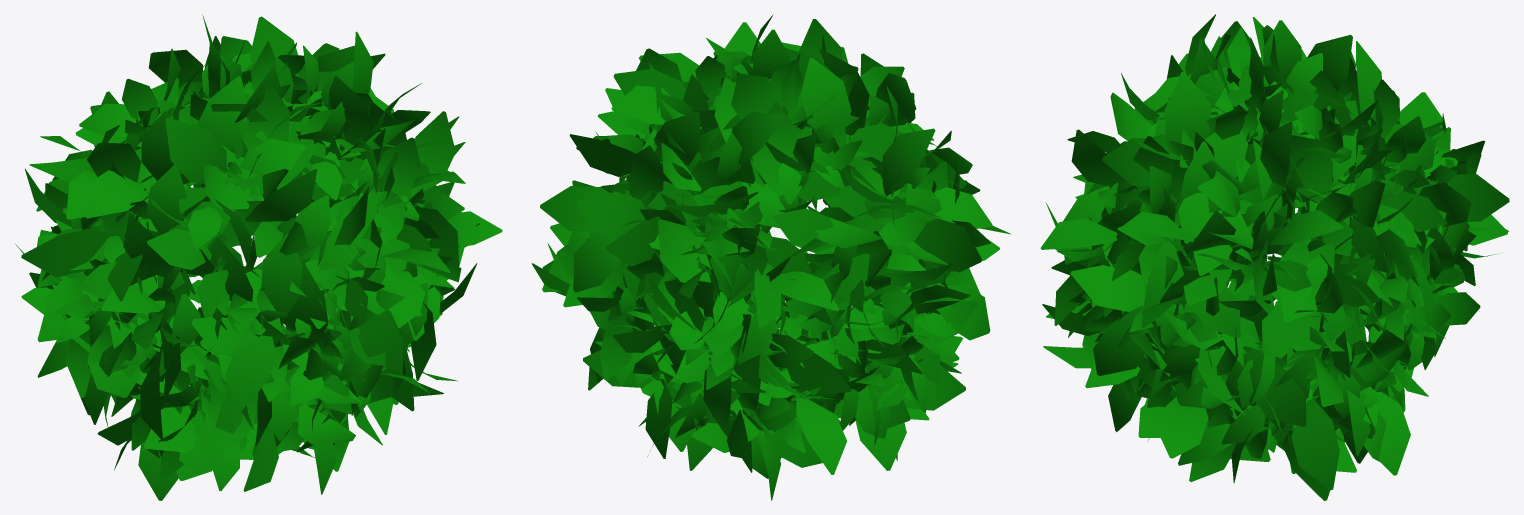
Rendered from bush.glb.
The picture shows the model from 3 angles, left to right: view 1: azimuth 30°, elevation 25°; view 2: azimuth 150°, elevation 25°; view 3: azimuth 270°, elevation 25°; orthographic projection. The views are drawn at different scales.
Parts seen in each view (by area): view 1: Plane.125.1; view 2: Plane.125.1; view 3: Plane.125.1.
Part boxes in pixels (left/top/right/bottom): Plane.125.1: left=15, top=15, right=502, bottom=500; Plane.125.1: left=531, top=14, right=1010, bottom=500; Plane.125.1: left=1040, top=14, right=1509, bottom=500.
Size of the model in its own units: 164 by 162 by 154.
